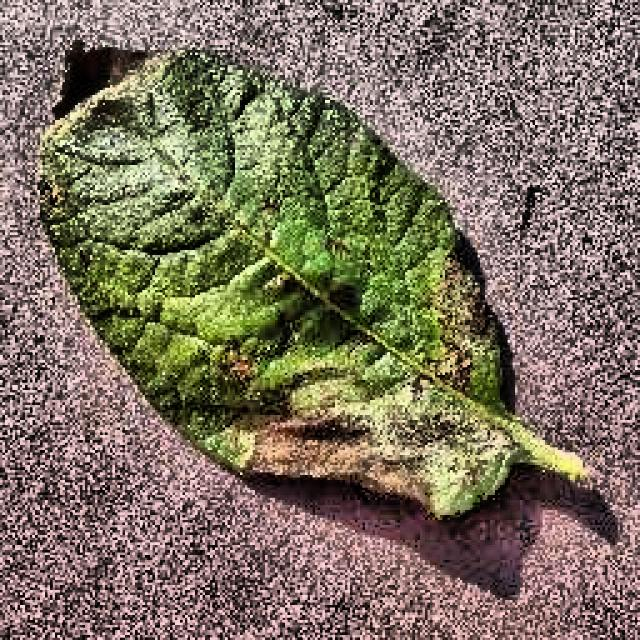Potato_leaf_late_blight: (26, 27, 524, 522)
